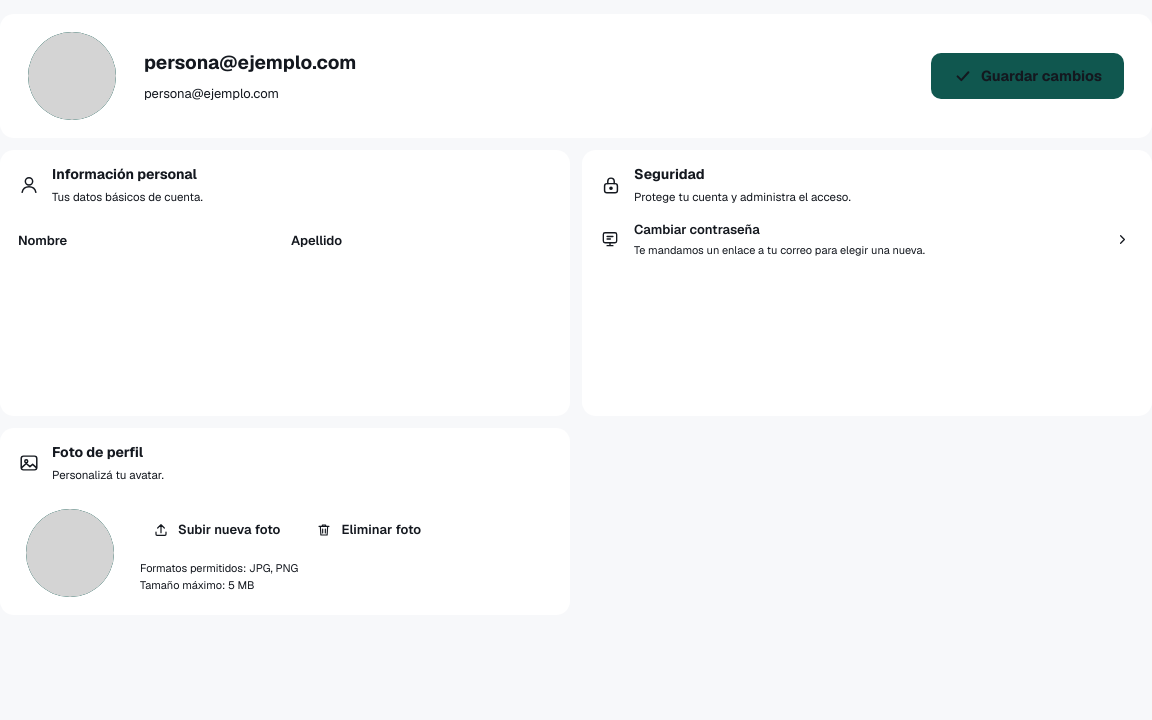
it: Mi perfil › Eliminar foto la borra y vuelve a las iniciales
Click the button "Eliminar foto" at (369, 530), box left=303, top=512, right=434, bottom=548
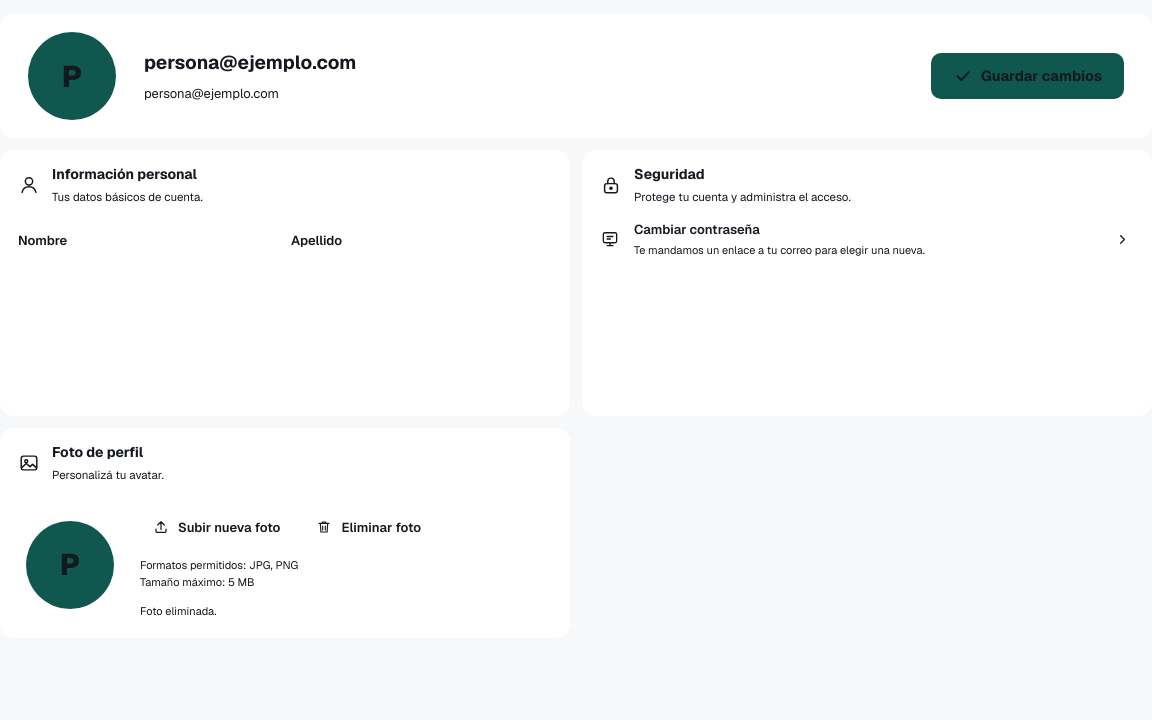
Expected: the text "P" is shown 2 times, left=28, top=32, right=116, bottom=120; left=26, top=521, right=114, bottom=609
Expected: the text "Foto eliminada." is shown, left=140, top=604, right=217, bottom=618
